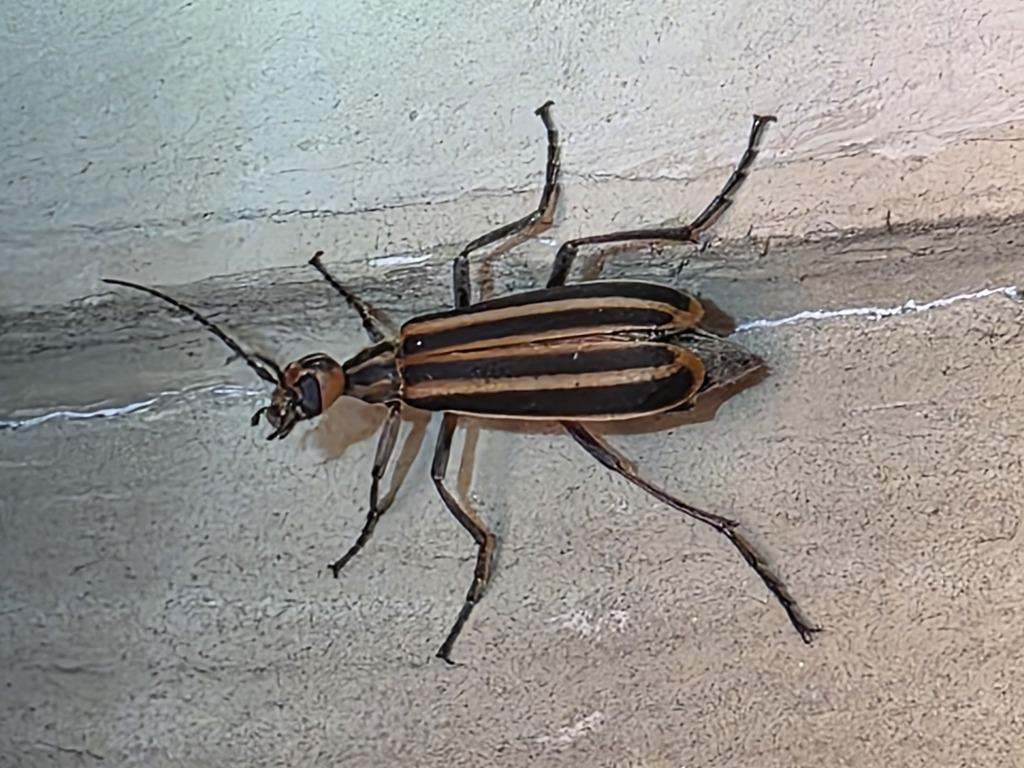blister_beetle: (48, 52, 941, 727)
